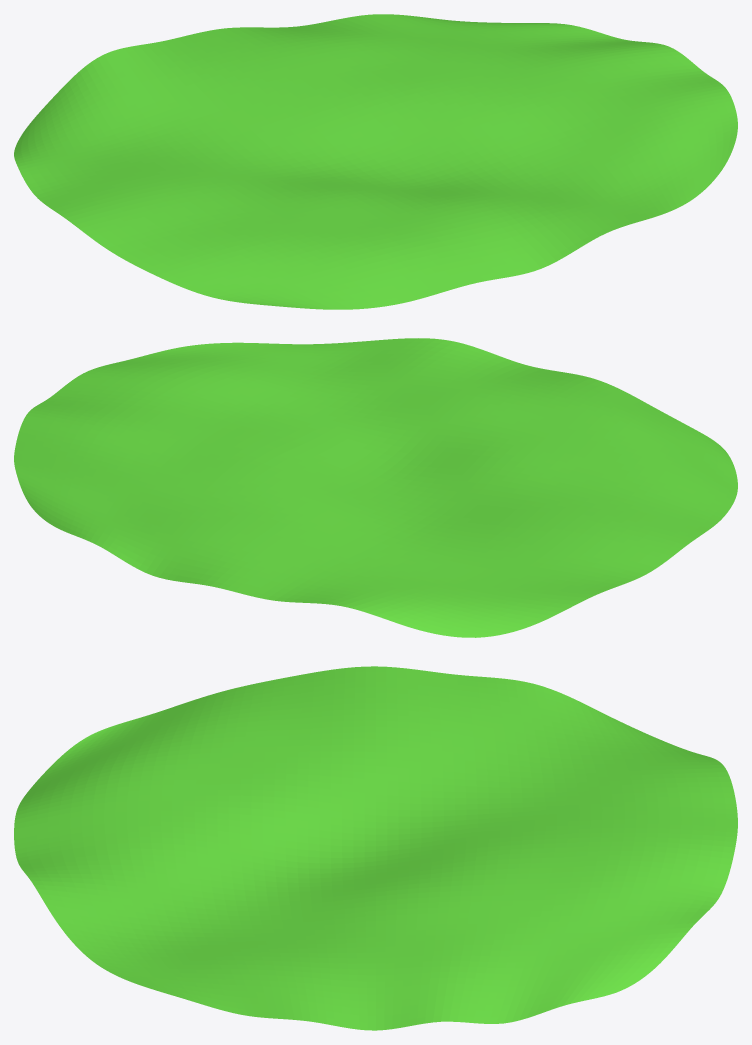
Rendered from cabbageSliced.fbx.
The picture shows the model from 3 angles, top to bottom: view 1: azimuth 30°, elevation 25°; view 2: azimuth 150°, elevation 25°; view 3: azimuth 270°, elevation 25°; orthographic projection. The views are drawn at different scales.
Visible parts, largest first — view 1: cabbage; view 2: cabbage; view 3: cabbage.
Boxes of the visible parts, box(x1,y1,x2,y2) form: cabbage: box(14, 14, 737, 309); cabbage: box(14, 338, 737, 637); cabbage: box(14, 666, 737, 1030).
Bounding box in the file's own units: 227 × 9.22 × 196.
